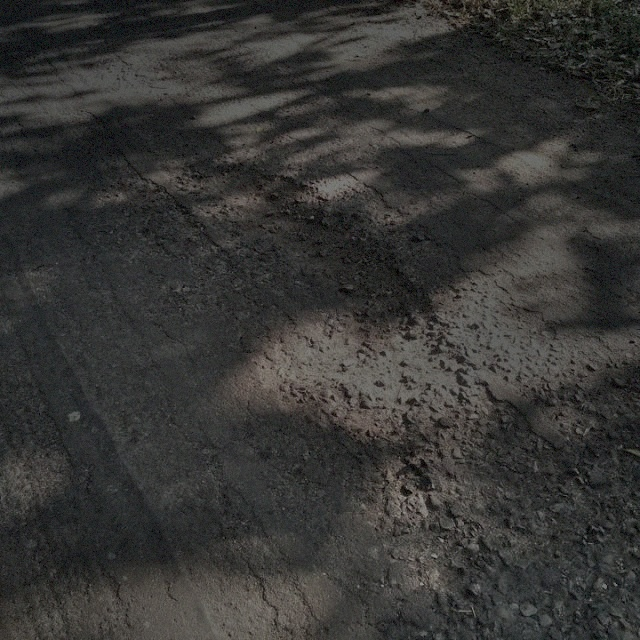pothole: (187, 164, 441, 330)
